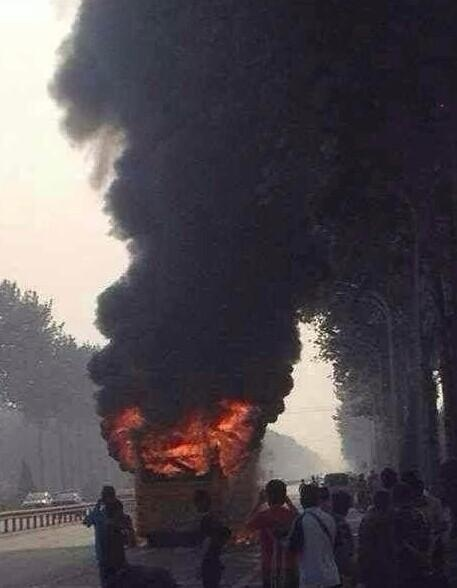fire: (107, 396, 258, 476)
